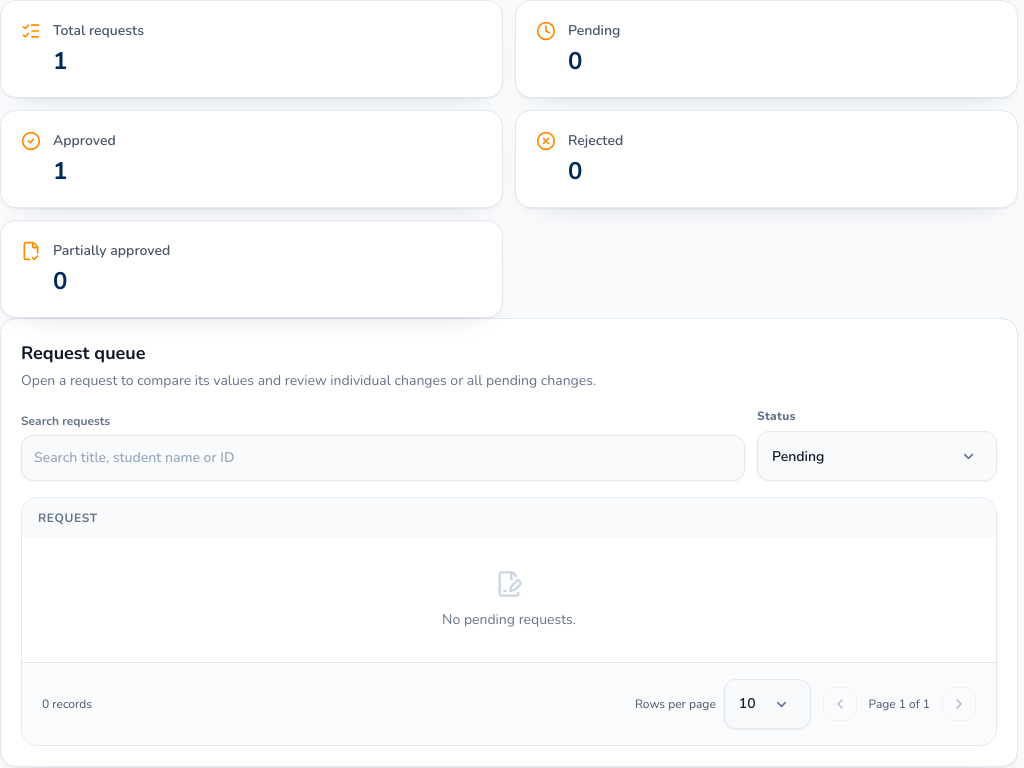
it: uses the custom dropdown to filter completed requests
Check: the text "No pending requests." is shown, box [22,538,996,662]
Click the button with aria-label "Request status": (877, 456) [757,431,997,481]
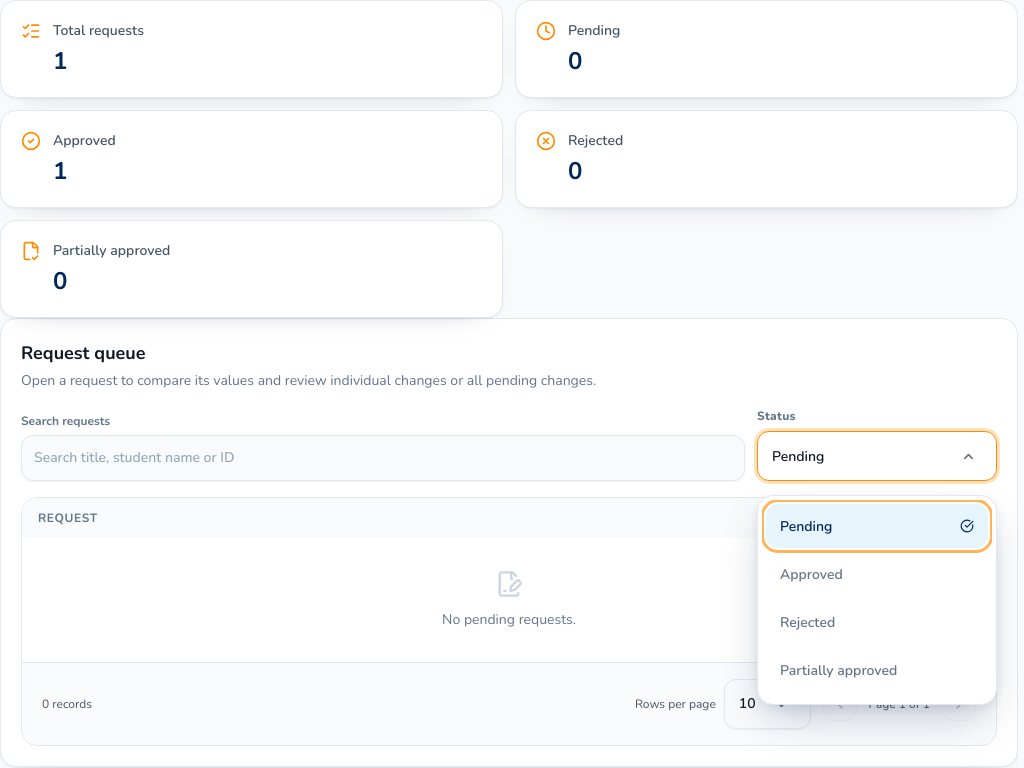
Click the option "Approved": (877, 574) [766,552,988,596]
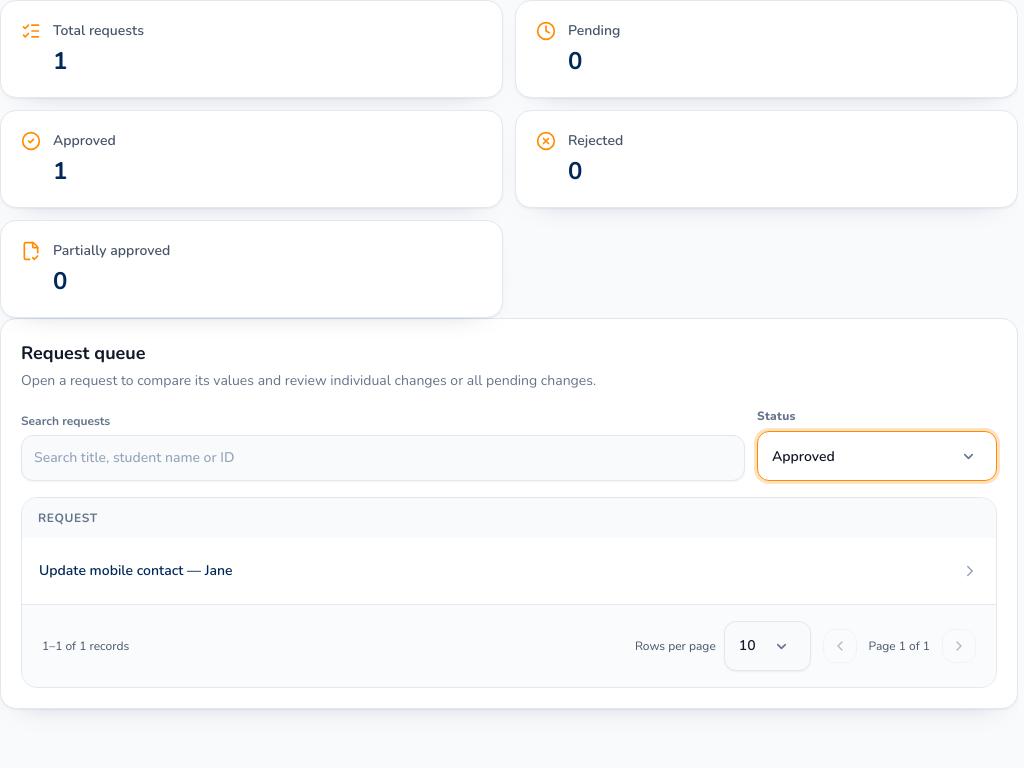
Check: the button "Update mobile contact — Jane" is shown, box [23,539,995,603]
